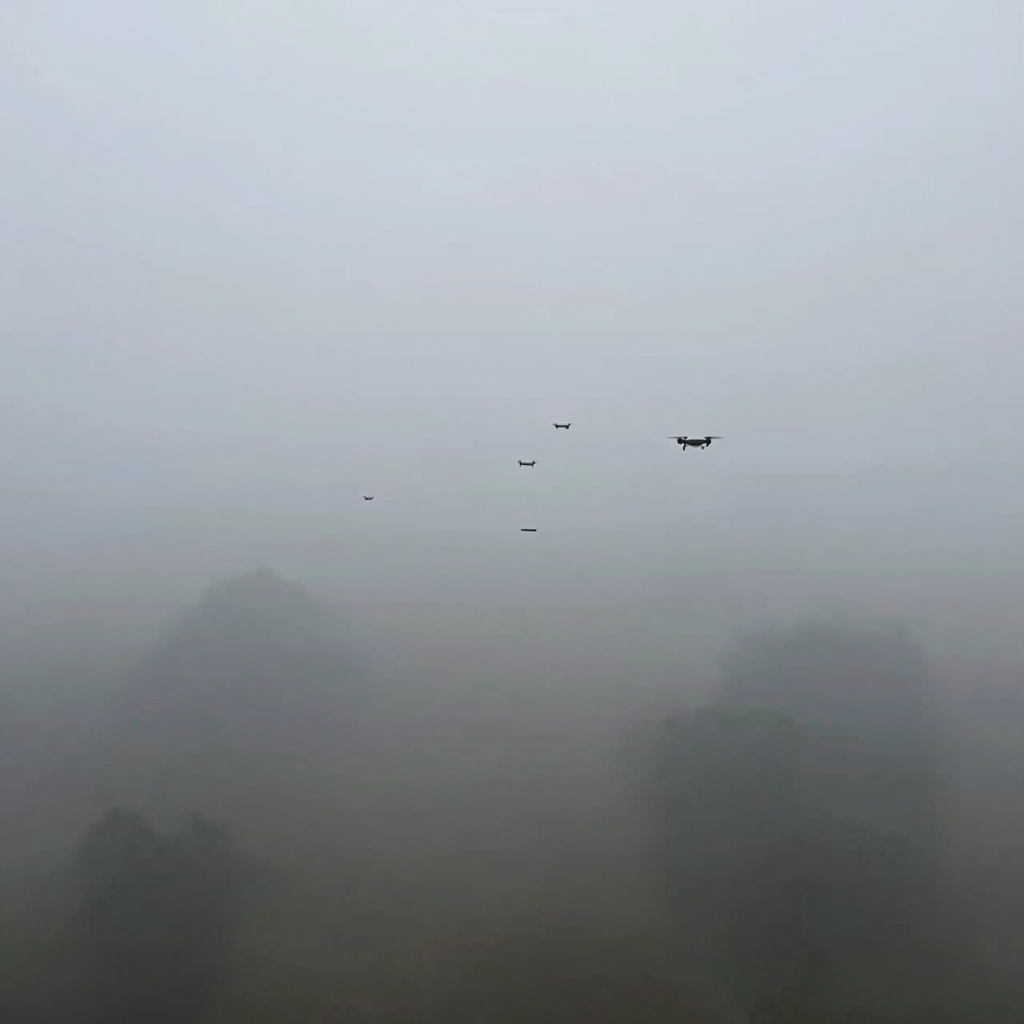drone: (666, 436, 724, 451), (517, 460, 538, 468), (552, 423, 572, 429), (360, 496, 375, 502), (521, 529, 537, 532)
